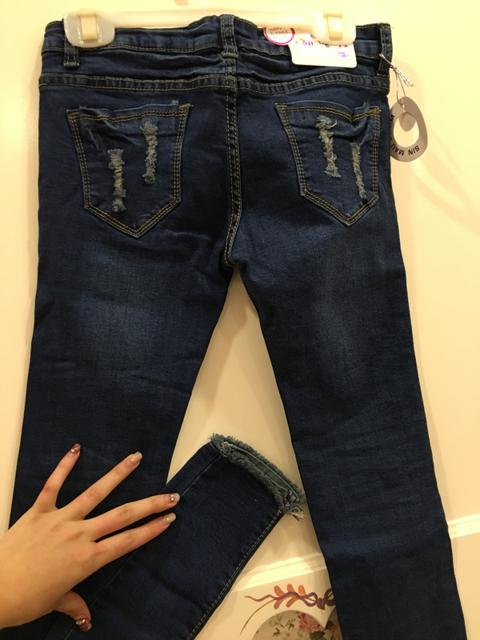Pants_Leggings: (7, 14, 469, 640)
